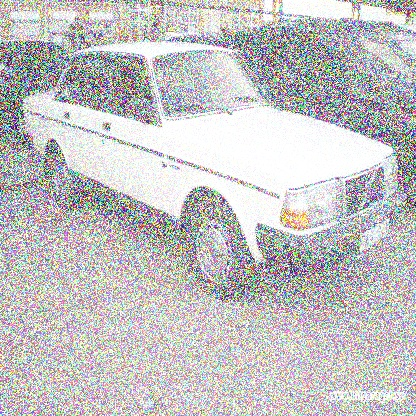Vehicle: (22, 41, 409, 299)
